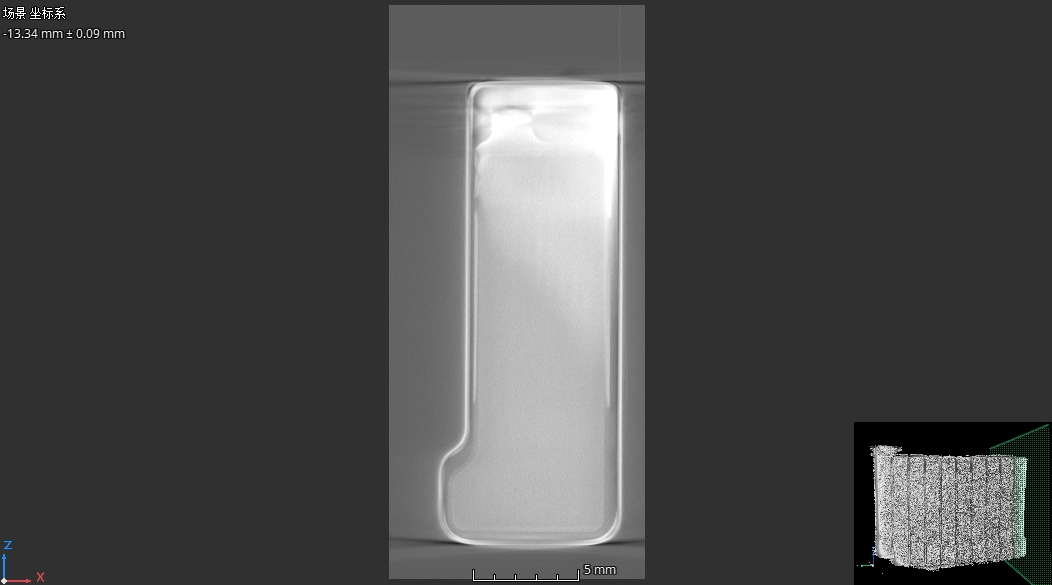damage: (470, 144, 483, 212)
